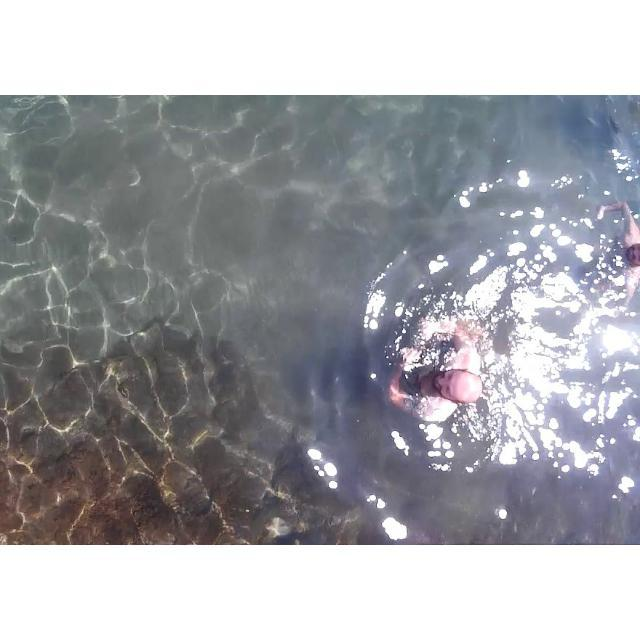human: (385, 295, 505, 440), (590, 191, 638, 310)
